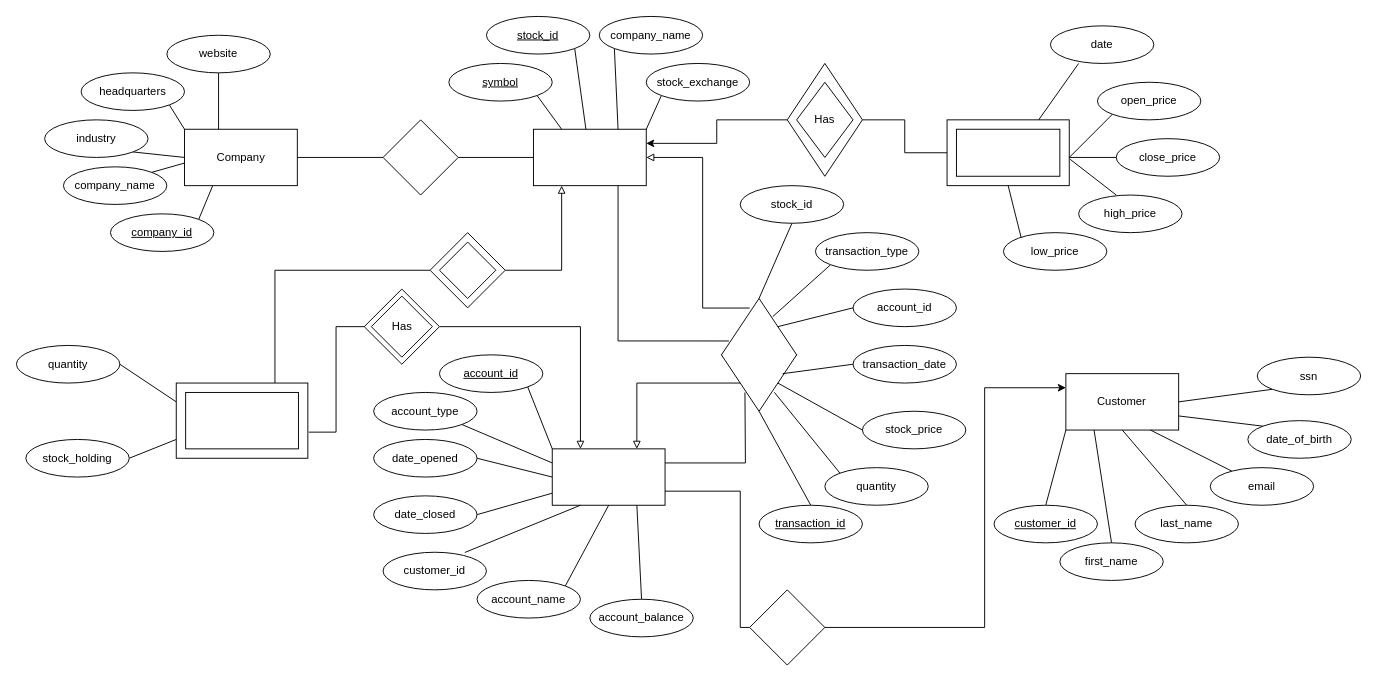
The diagram is 1377 pixels wide and 682 high, and some of its shapes have lost their labels. The shapes that lost their labels are listed below. From the top down, each one's centre as x and y in pixels, then its label:
At point (420, 157): "portion of".
At point (589, 157): "Stock".
At point (1008, 152): "DailyStockMetric".
At point (467, 269): "Contains".
At point (759, 354): "Transaction".
At point (241, 420): "StockHolding".
At point (608, 476): "Account".
At point (787, 627): "Owns".
